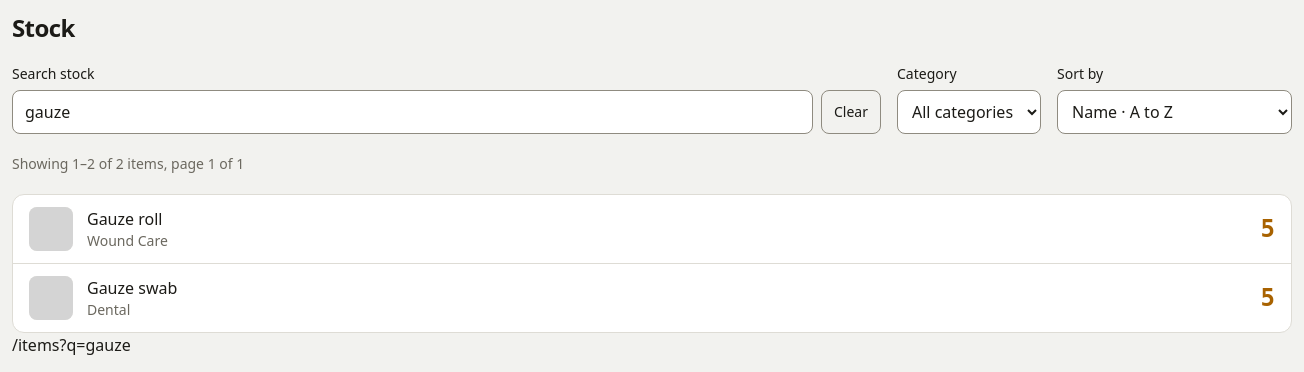
Test: StockListPage › narrows a search by category, which the API cannot do on its own
Expected: the text "Gauze roll" is shown, [87,208,162,230]
Select "Dental" in the dropdown labelled "Category": (969, 112) [897,90,1041,134]
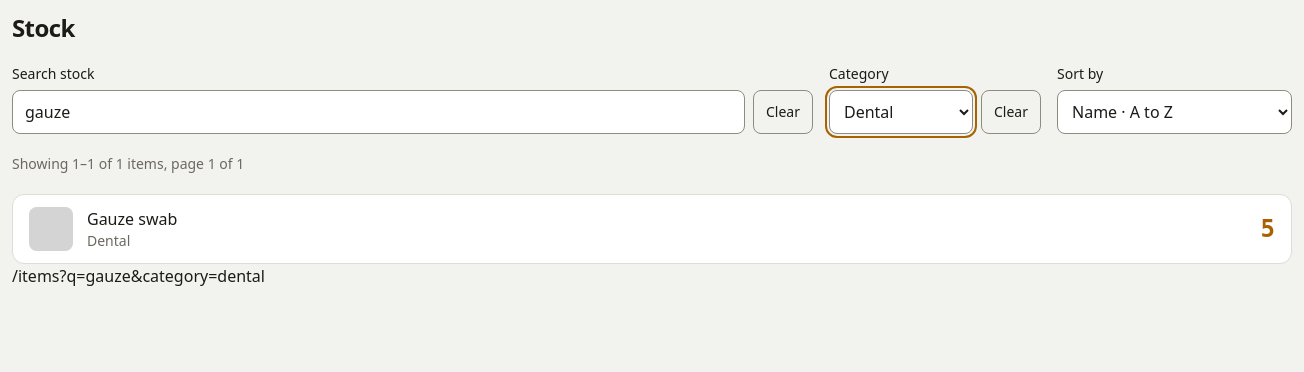
Expected: the text "Gauze swab" is shown, [87,208,177,230]
Expected: the link "Gauze roll" is gone
